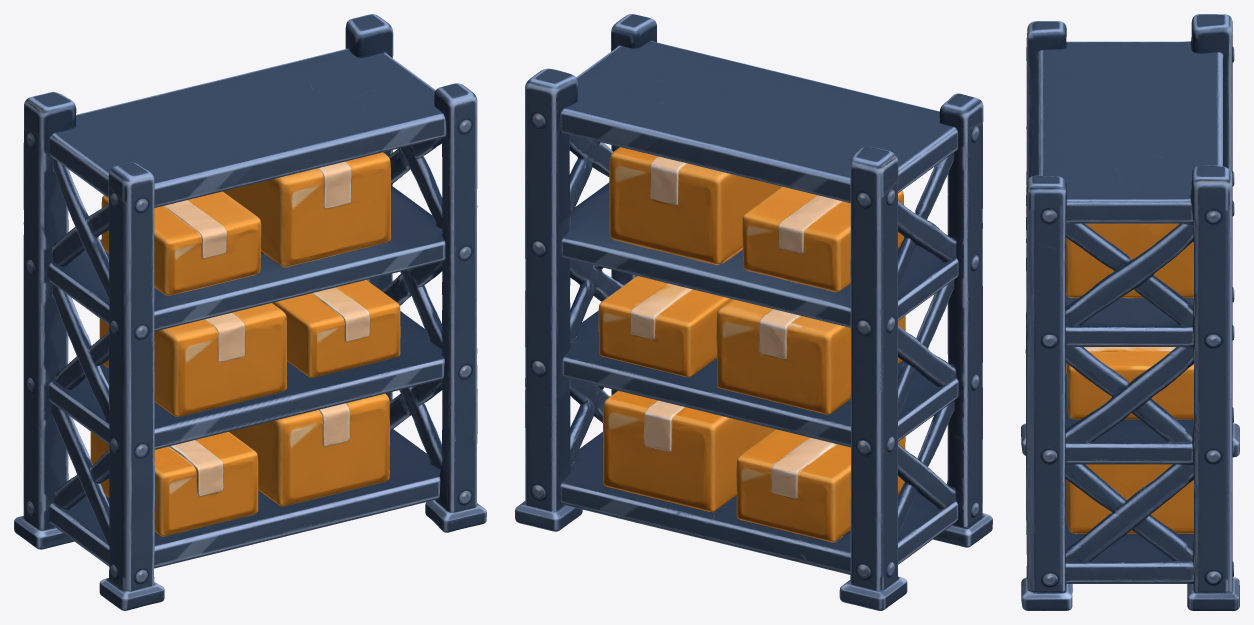
The model's file is rack.glb.
The picture shows the model from 3 angles, left to right: view 1: azimuth 30°, elevation 25°; view 2: azimuth 150°, elevation 25°; view 3: azimuth 270°, elevation 25°; orthographic projection. The views are drawn at different scales.
Size of the model in its own units: 1.67 by 1.9 by 0.8797.
1 material, 1 textured.
